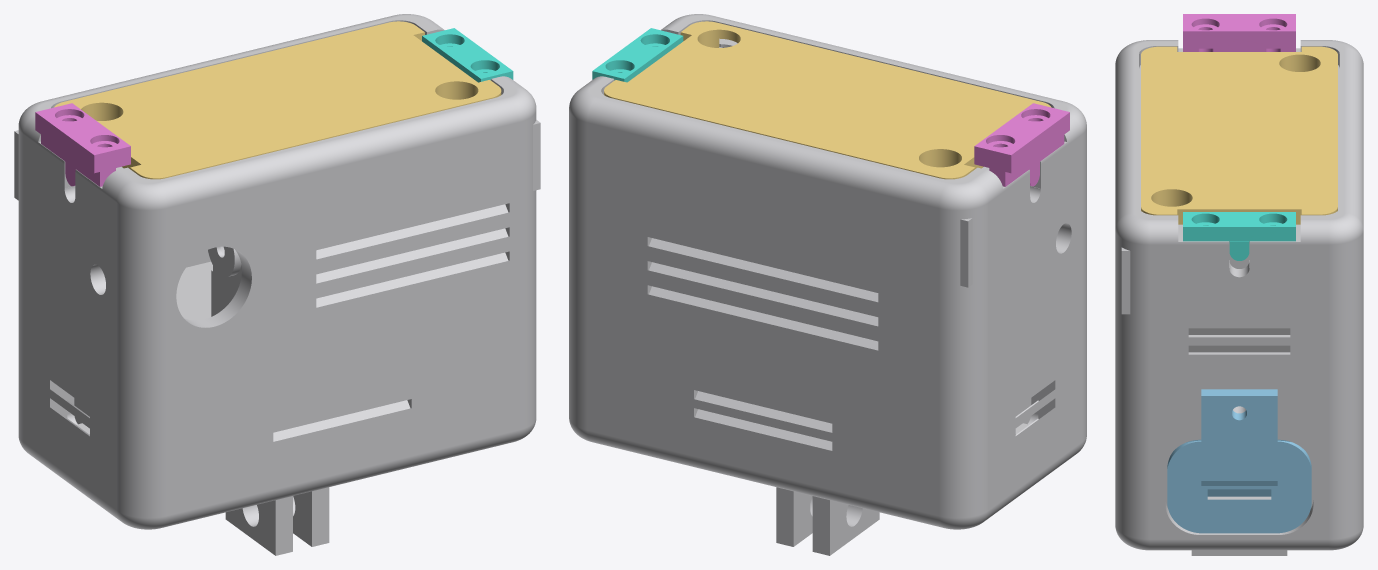
File: sender_mid.glb
3 views of the same model, side by side, from view 1: azimuth 30°, elevation 25°; view 2: azimuth 150°, elevation 25°; view 3: azimuth 270°, elevation 25° (orthographic). The views are drawn at different scales.
Parts seen in each view (by area): view 1: =>[0:1:1:3], =>[0:1:1:5], =>[0:1:1:10], =>[0:1:1:11]; view 2: =>[0:1:1:3], =>[0:1:1:5], =>[0:1:1:10], =>[0:1:1:11]; view 3: =>[0:1:1:3], =>[0:1:1:5], =>[0:1:1:4], =>[0:1:1:10], =>[0:1:1:11].
Part boxes in pixels (<box>): =>[0:1:1:3]: <box>14,14,540,555</box>; =>[0:1:1:5]: <box>54,21,501,179</box>; =>[0:1:1:10]: <box>35,103,130,186</box>; =>[0:1:1:11]: <box>422,28,513,82</box>; =>[0:1:1:3]: <box>569,14,1086,555</box>; =>[0:1:1:5]: <box>604,21,1051,179</box>; =>[0:1:1:10]: <box>974,103,1069,186</box>; =>[0:1:1:11]: <box>592,28,683,82</box>; =>[0:1:1:3]: <box>1115,40,1363,555</box>; =>[0:1:1:5]: <box>1141,46,1337,224</box>; =>[0:1:1:4]: <box>1167,389,1311,533</box>; =>[0:1:1:10]: <box>1183,14,1295,51</box>; =>[0:1:1:11]: <box>1183,212,1295,260</box>.
Size of the model in its own units: 0.0754 by 0.0745 by 0.039.
